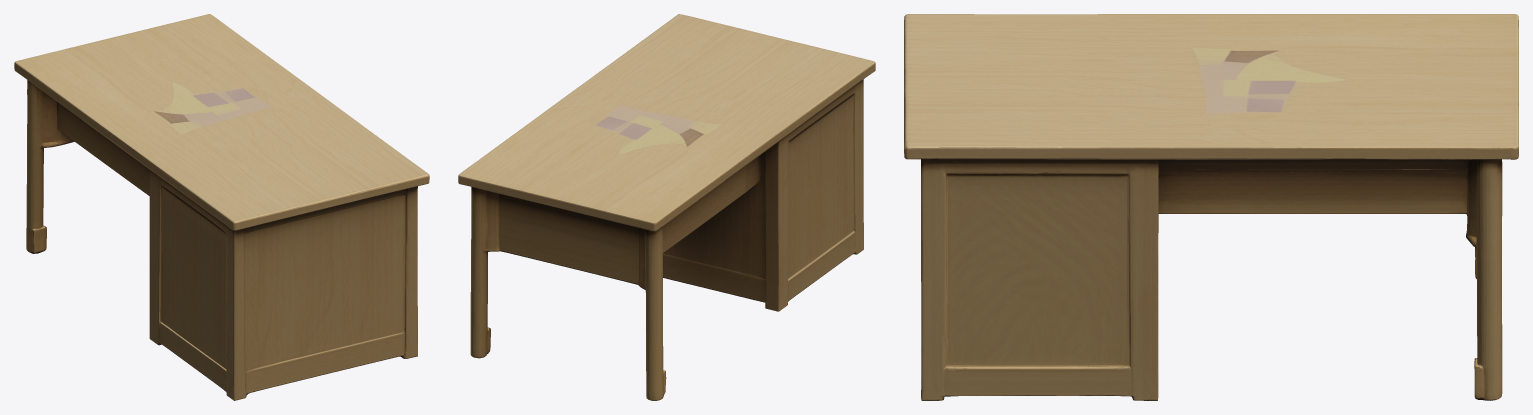
The model's file is desk.glb.
The picture shows the model from 3 angles, left to right: view 1: azimuth 30°, elevation 25°; view 2: azimuth 150°, elevation 25°; view 3: azimuth 270°, elevation 25°; orthographic projection. The views are drawn at different scales.
Parts seen in each view (by area): view 1: world; view 2: world; view 3: world.
Boxes of the visible parts, x1,y1,x2,y2 form: world: (14, 14, 429, 400); world: (458, 14, 875, 400); world: (904, 14, 1518, 400).
Bounding box in the file's own units: 0.517 × 0.4637 × 1.
1 material, 1 textured.
